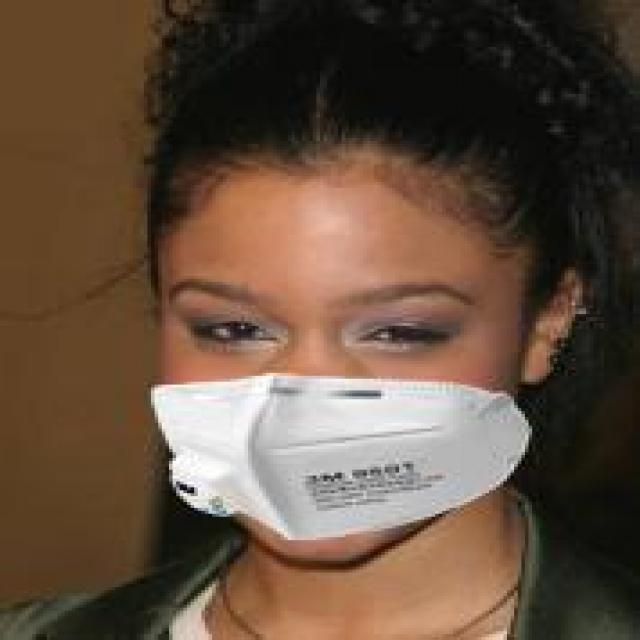mask: (147, 38, 594, 537)
